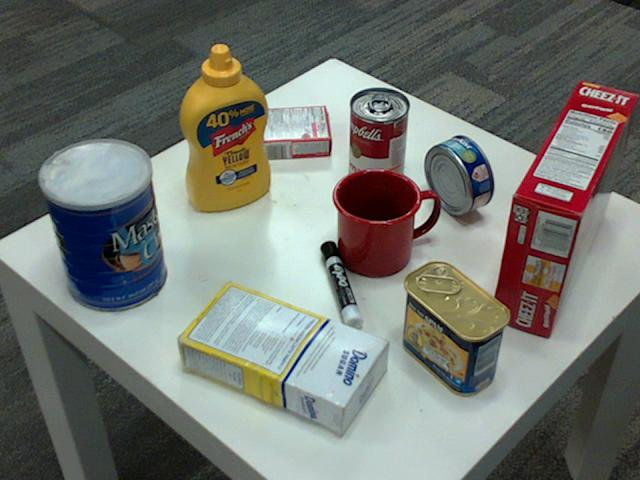cracker_box: (489, 80, 636, 336)
gelatin_box: (257, 103, 332, 157)
large_marker: (320, 242, 362, 334)
master_chef_can: (36, 139, 164, 312)
mug: (330, 166, 436, 274)
mustard_bottle: (178, 44, 270, 210)
potted_meat_can: (399, 260, 510, 395)
sugar_box: (172, 278, 386, 431)
tomato_soup_can: (347, 88, 408, 192)
tuna_fish_can: (423, 134, 492, 214)
